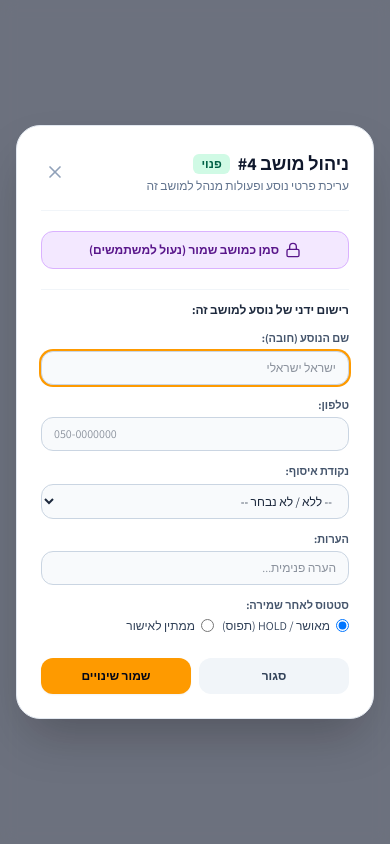
Test: ManualAssignModal › blocks submit and shows an inline error (not a toast) when name is empty
The width and height of the screenshot is (390, 844).
Click the button "שמור שינויים".
click(116, 676)  # box [41,658,191,694]
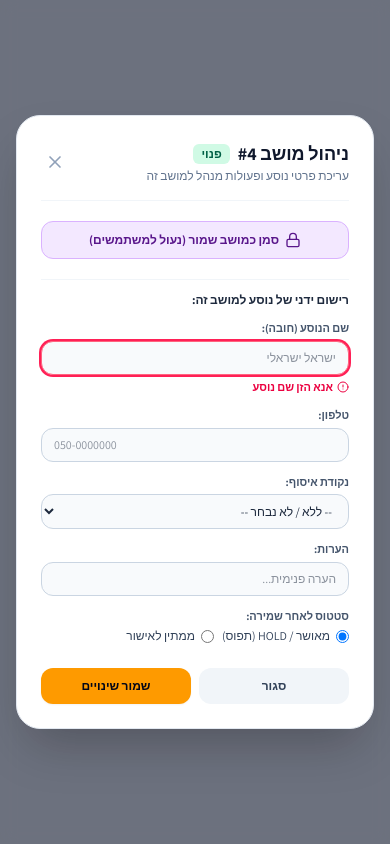
Result: the text "אנא הזן שם נוסע" is shown at [252,378,333,395]
